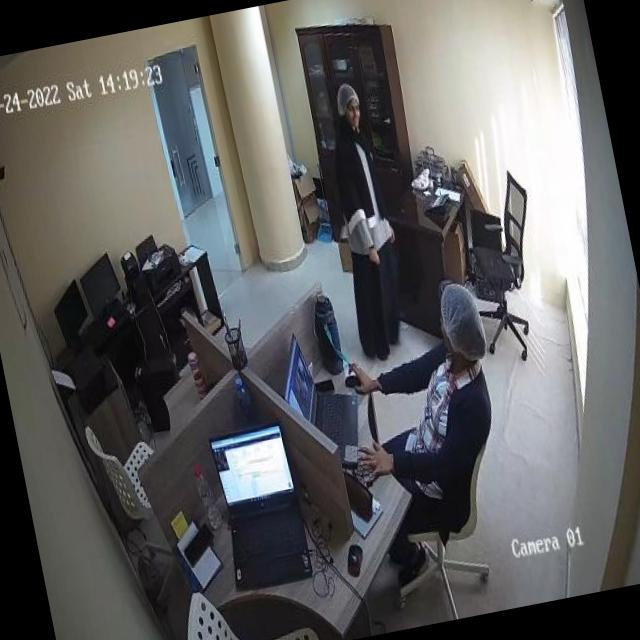hairnet: (438, 279, 488, 364), (333, 83, 360, 114)
